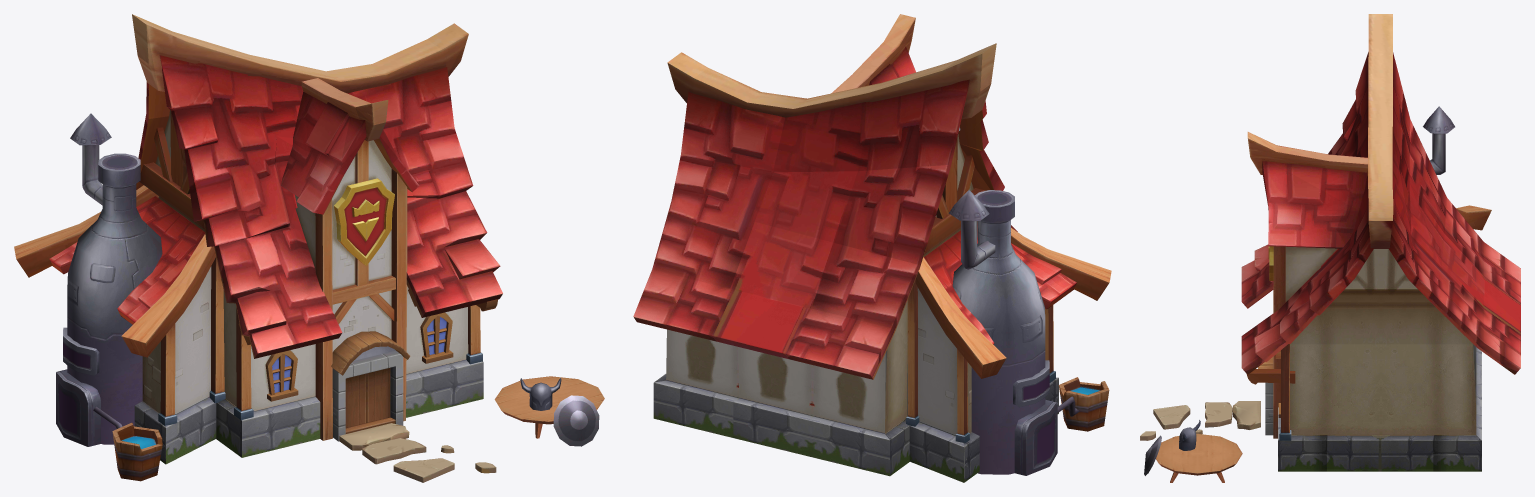
Rendered from ZhuCheng_JianZhu_05.fbx.
3 renders of one model, left to right at view 1: azimuth 30°, elevation 25°; view 2: azimuth 150°, elevation 25°; view 3: azimuth 270°, elevation 25°, orthographic. The views are drawn at different scales.
Parts seen in each view (by area): view 1: ZhuCheng_JianZhu_05; view 2: ZhuCheng_JianZhu_05; view 3: ZhuCheng_JianZhu_05.
Part boxes in pixels (x1,y1,x2,y2): ZhuCheng_JianZhu_05: [14, 14, 604, 482]; ZhuCheng_JianZhu_05: [633, 14, 1111, 482]; ZhuCheng_JianZhu_05: [1140, 14, 1520, 482].
Bounding box in the file's own units: 6.32 × 5.81 × 5.85.
